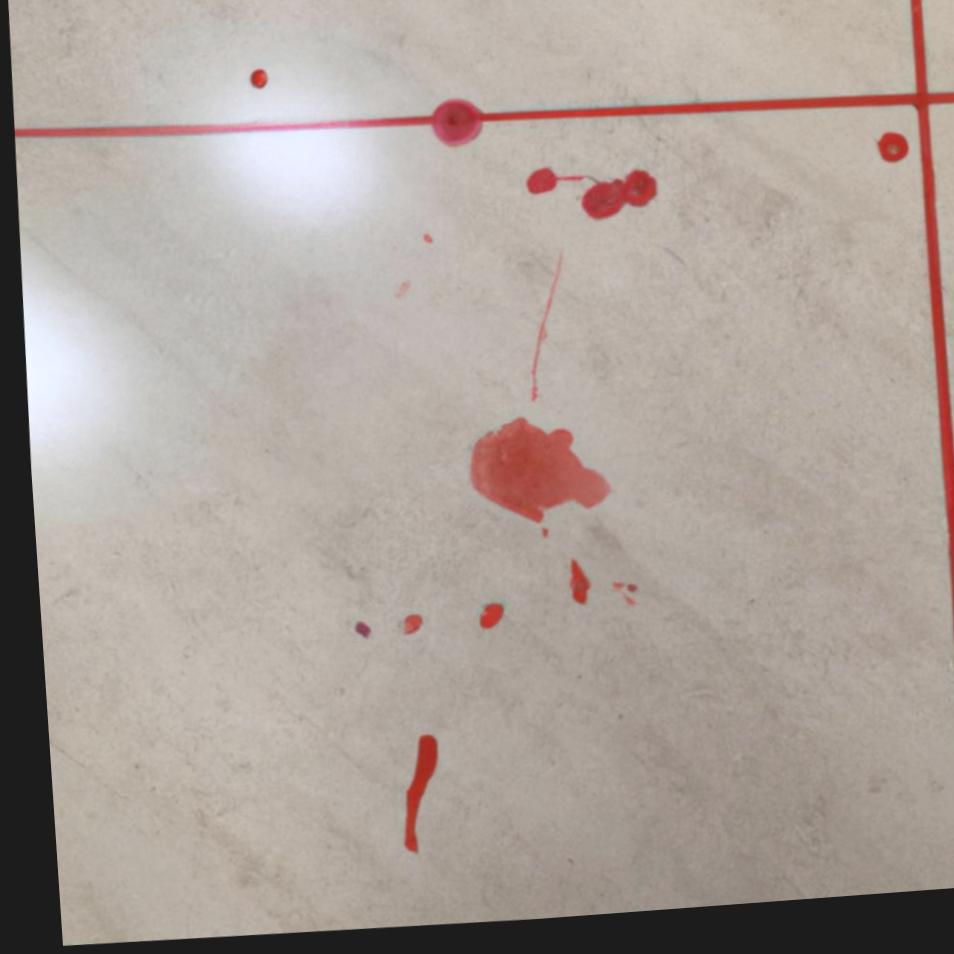Fire: (463, 424, 604, 530), (392, 739, 428, 860), (578, 179, 655, 227), (429, 105, 481, 154), (524, 175, 583, 202), (875, 146, 906, 176), (471, 610, 495, 636), (395, 620, 414, 640)
